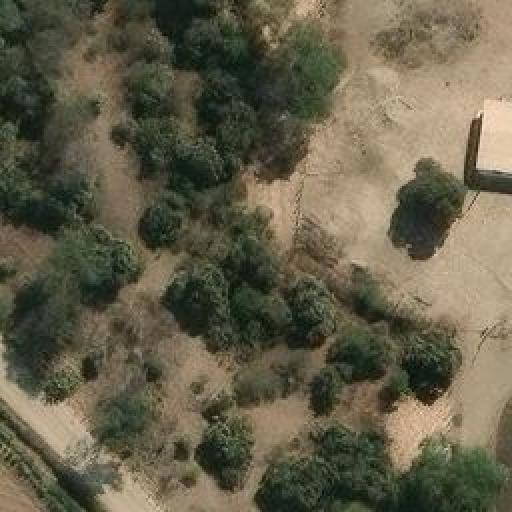manzanas: (464, 93, 510, 193)
